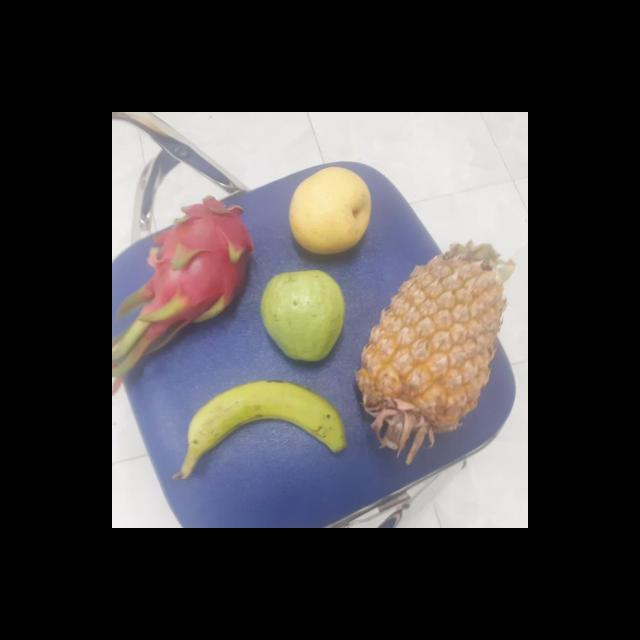banana: (175, 378, 347, 467)
guava: (256, 268, 348, 362)
pear: (284, 167, 372, 257)
pineapple: (356, 254, 505, 452)
pitaya: (145, 198, 253, 320)
